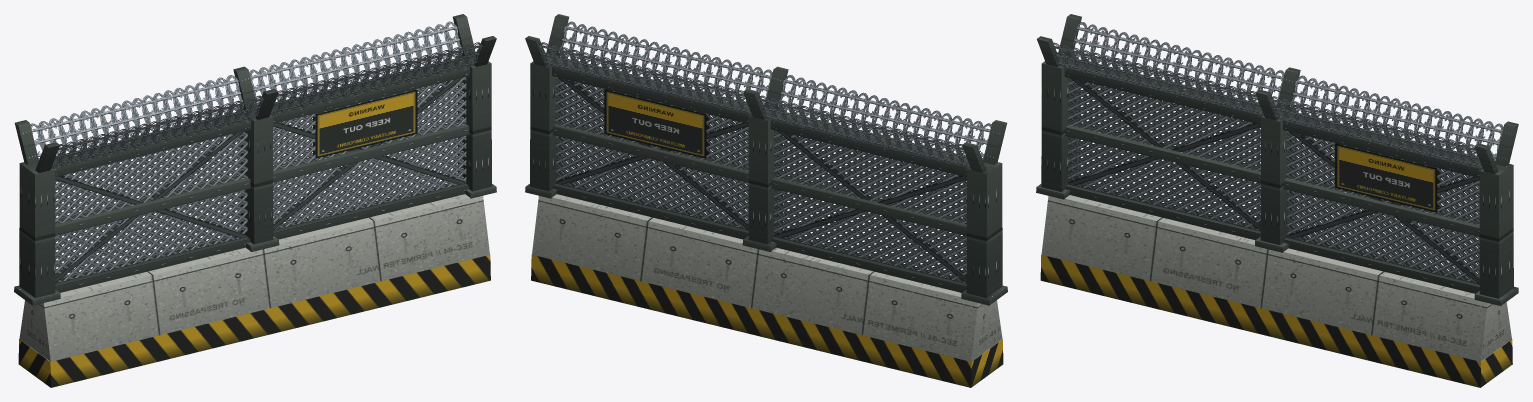
File: duckov_fence.obj
3 renders of one model, left to right at view 1: azimuth 30°, elevation 25°; view 2: azimuth 150°, elevation 25°; view 3: azimuth 330°, elevation 25°, orthographic.
Parts seen in each view (by area): view 1: DuckovSecurityFence; view 2: DuckovSecurityFence; view 3: DuckovSecurityFence.
Part boxes in pixels (box(x1,y1,x2,y2)): DuckovSecurityFence: box(14, 14, 496, 387); DuckovSecurityFence: box(525, 14, 1007, 387); DuckovSecurityFence: box(1036, 14, 1518, 387).
Size of the model in its own units: 5.31 by 2.64 by 0.676.
Materials: 1 (1 with a texture image).
